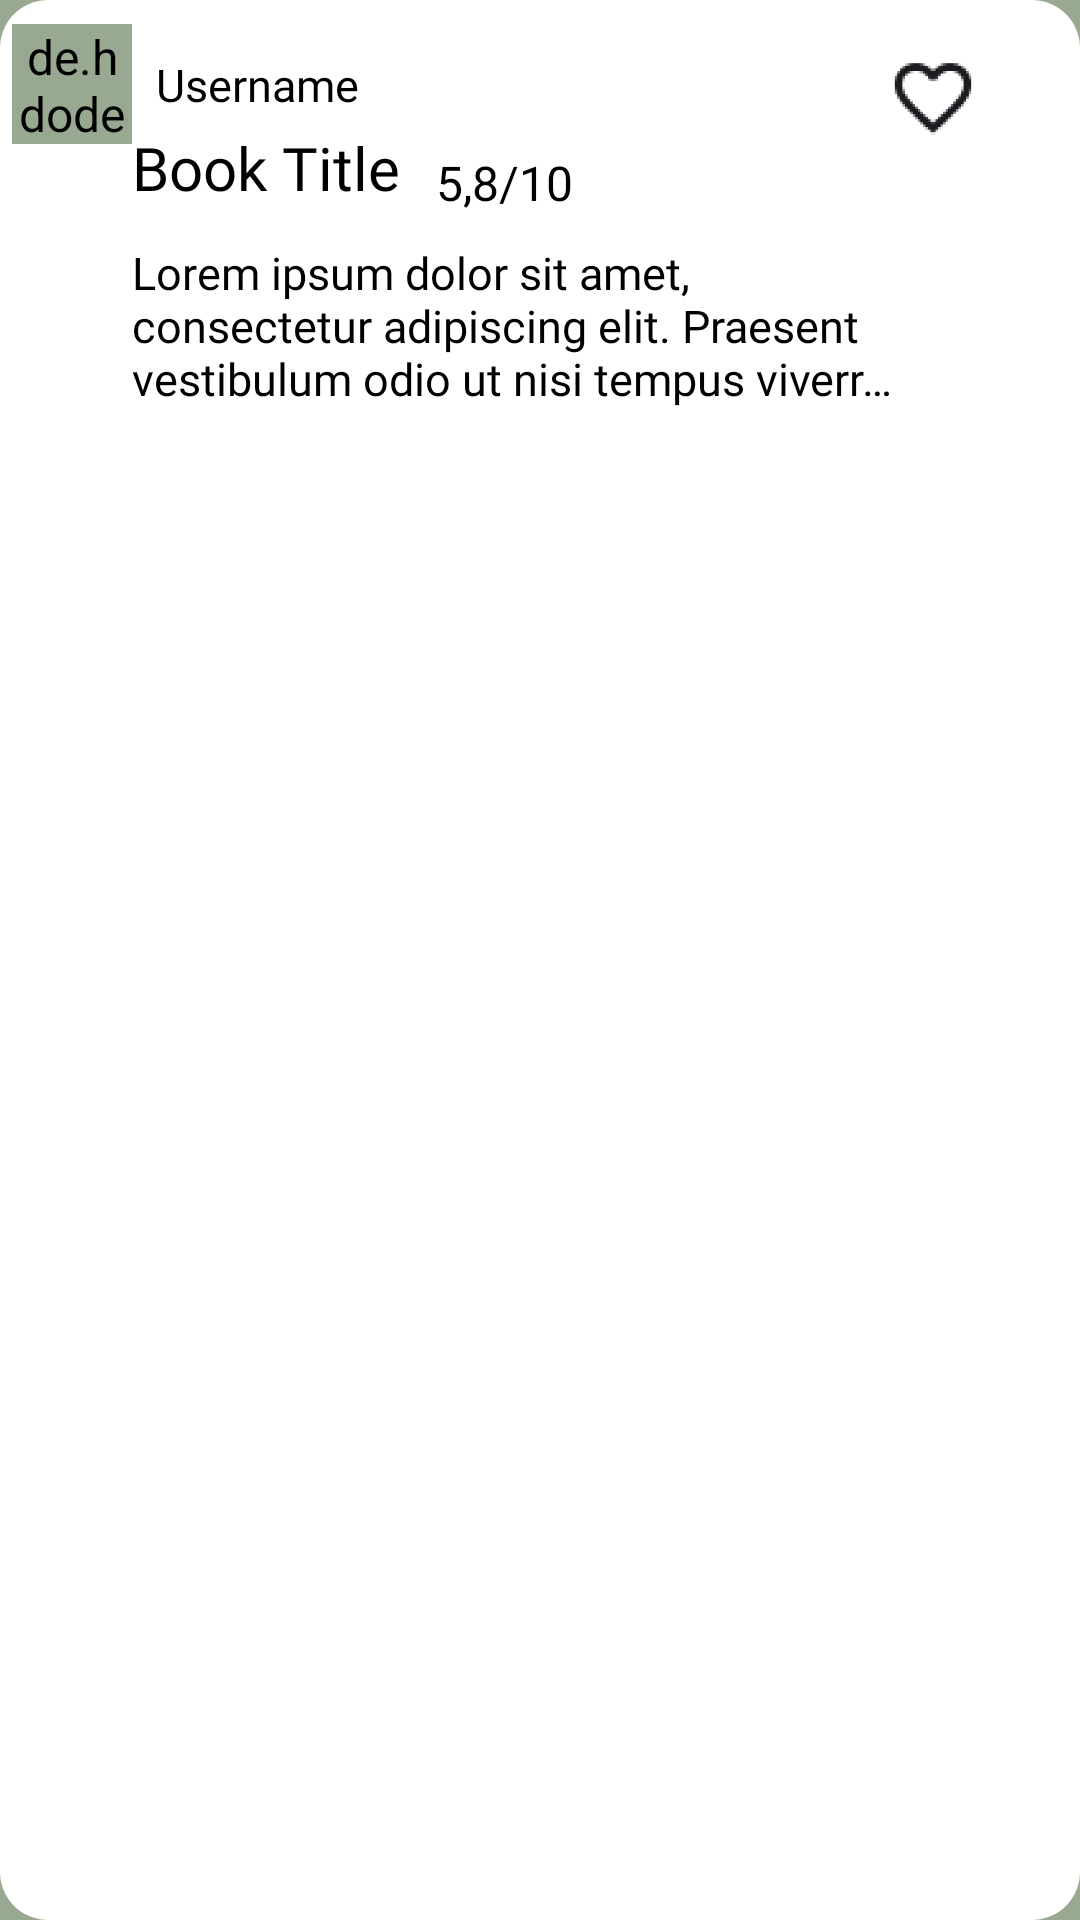

Icon click points for this 1080 x 1920 phone screenshot, format (x=x, y=y):
fav: (x=933, y=98)
